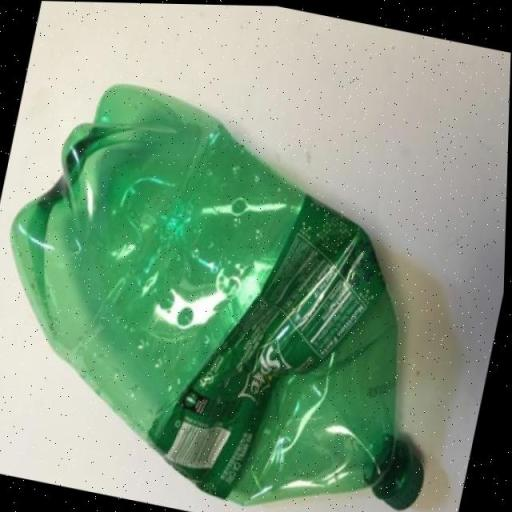plastic: (0, 61, 498, 512)
